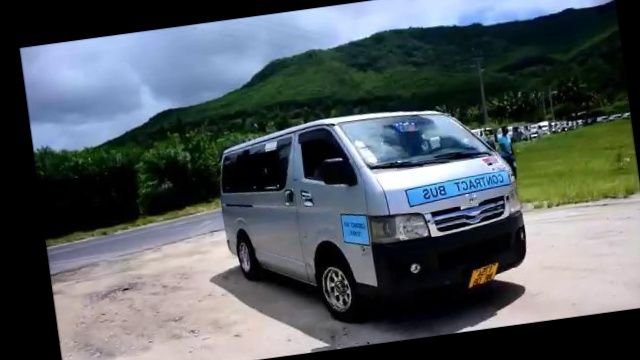van: (209, 91, 535, 336)
